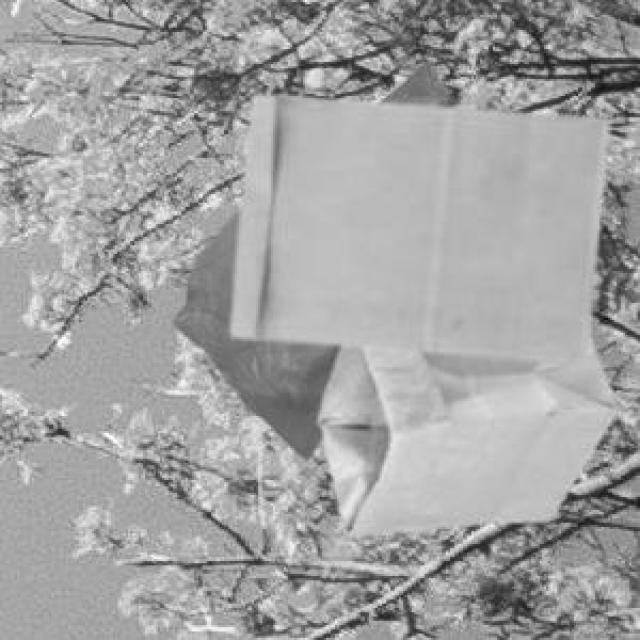paper: (229, 92, 604, 361), (316, 334, 612, 531)
